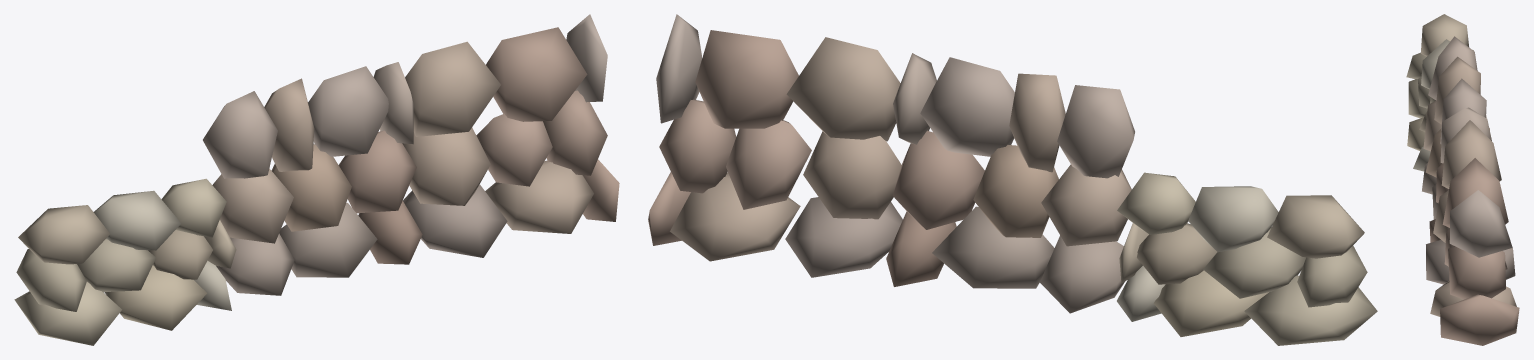
Rendered from farm_-2_5_near.glb.
3 views of the same model, side by side, from view 1: azimuth 30°, elevation 25°; view 2: azimuth 150°, elevation 25°; view 3: azimuth 270°, elevation 25° (orthographic). The views are drawn at different scales.
Parts seen in each view (by area): view 1: geometry_0; view 2: geometry_0; view 3: geometry_0.
Part boxes in pixels (<box>): geometry_0: <box>14,14,619,345</box>; geometry_0: <box>648,14,1377,345</box>; geometry_0: <box>1406,14,1519,345</box>.
Bounding box in the file's own units: 4.63 × 1.61 × 0.9922.
